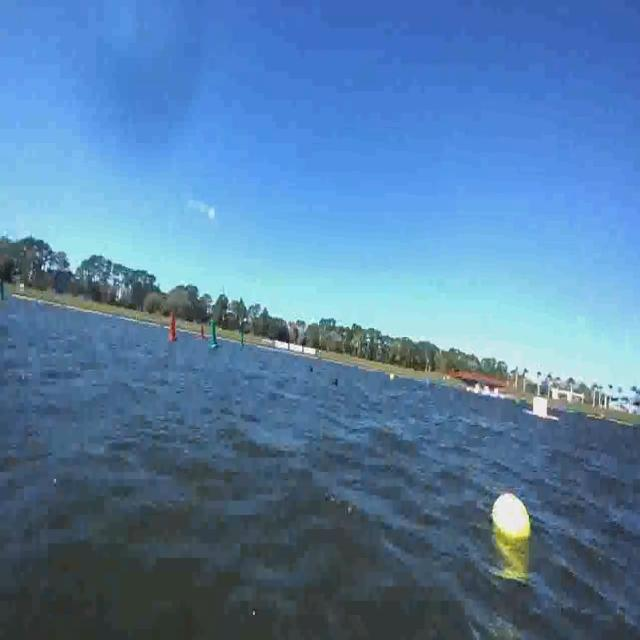black-buoy: (332, 372, 339, 390), (308, 364, 315, 374)
green-column-buoy: (210, 318, 220, 351), (241, 328, 246, 346)
red-column-buoy: (169, 312, 179, 342), (201, 322, 207, 338)
yellow-buoy: (487, 485, 537, 570), (388, 371, 393, 381)
